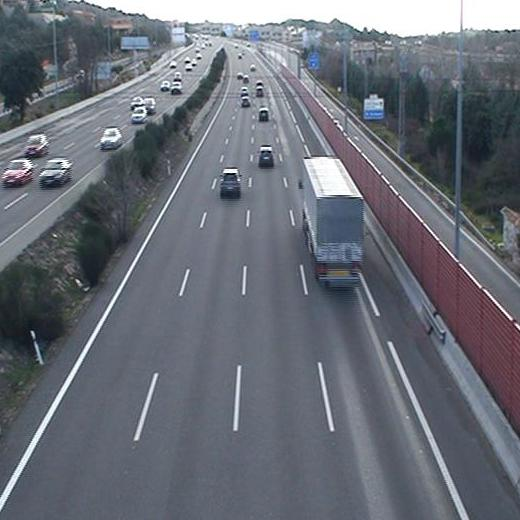car: (218, 166, 243, 194), (257, 145, 276, 166), (257, 107, 271, 123), (239, 96, 252, 108)
truck: (297, 151, 371, 289)
